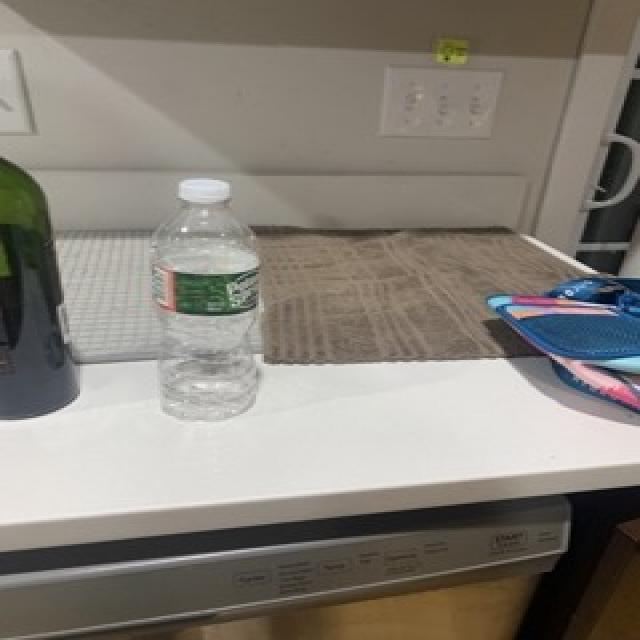water_bottle: (150, 176, 270, 422)
